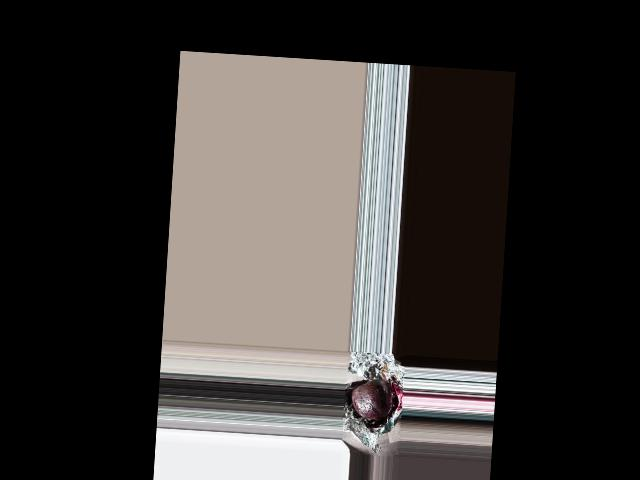beet: (350, 376, 392, 421)
